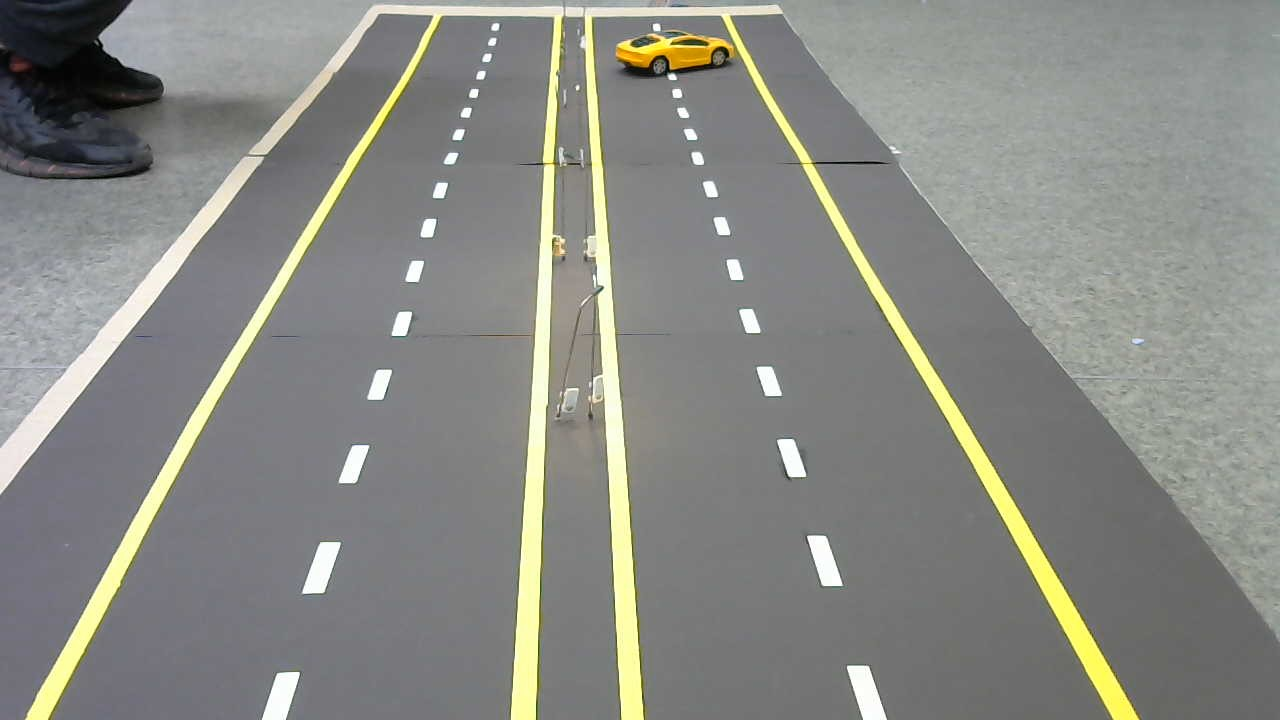overturn_car: (614, 22, 734, 78)
